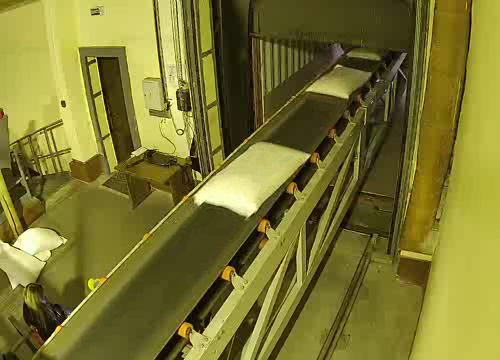bag: (188, 136, 316, 228), (302, 62, 376, 103), (345, 42, 396, 62)
